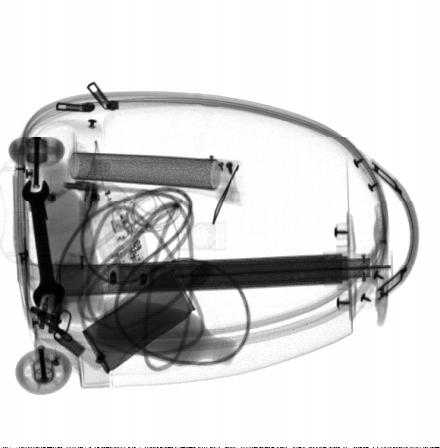Wrench: (22, 179, 65, 308)
